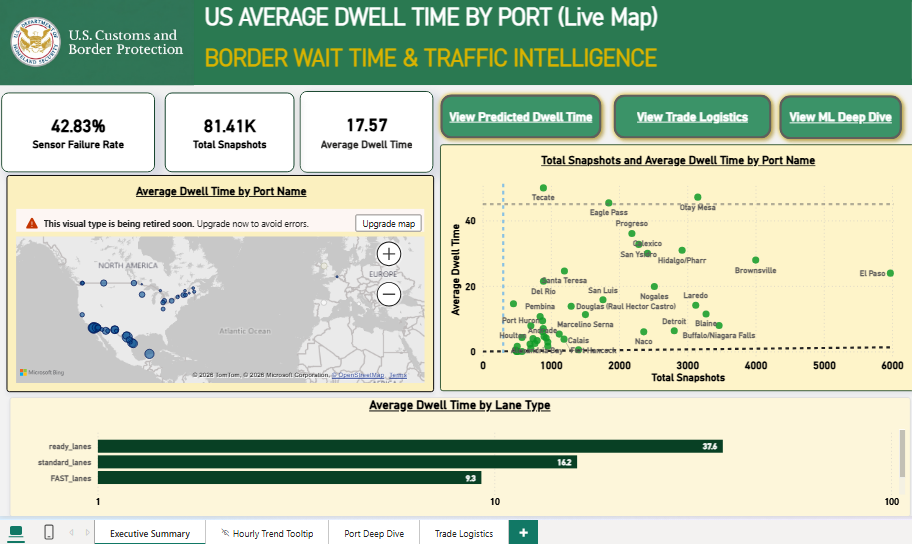

Layout of this report page (visuals, bound fields, positions):
{"tool":"powerbi","page":{"name":"Executive Summary","canvas":[1280,720],"ordinal":0},"visuals":[{"type":"cardVisual","fields":{"Data":["fact_waittimes_gold_new.Sensor Failure Rate"]},"box":[3.1,130.9,213.3,111.3],"z":0},{"type":"cardVisual","fields":{"Data":["fact_waittimes_gold_new.Average Dwell Time"]},"box":[417.4,128.8,185.5,113.4],"z":1000},{"type":"cardVisual","fields":{"Data":["fact_waittimes_gold_new.Total Snapshots"]},"box":[229.8,130.9,180.3,111.3],"z":2000},{"type":"map","title":"Average Dwell Time by Port Name","fields":{"Category":["dim_port.port_name"],"Size":["fact_waittimes_gold_new.Average Dwell Time"]},"box":[10.3,245.3,593.3,301.1],"z":3000},{"type":"clusteredBarChart","title":"Average Dwell Time by Lane Type","fields":{"Category":["dim_lane_new.lane_type"],"Y":["fact_waittimes_gold_new.Average Dwell Time"]},"box":[14.4,553.4,1251.1,166.9],"z":4000},{"type":"scatterChart","title":"Total Snapshots and Average Dwell Time by Port Name","fields":{"Category":["dim_port.port_name"],"X":["fact_waittimes_gold_new.Total Snapshots"],"Y":["fact_waittimes_gold_new.Average Dwell Time"]},"box":[612.1,203,658.5,343.2],"z":5000},{"type":"shape","box":[0,0,1271.1,121.1],"z":6000},{"type":"textbox","box":[279.9,0,1000.1,120.7],"z":7000},{"type":"actionButton","box":[603.3,124.4,241.1,78.9],"z":8000},{"type":"image","box":[0,0,270,121.1],"z":9000},{"type":"actionButton","box":[844,124.7,236.7,78.9],"z":10000},{"type":"actionButton","box":[1073.8,125.7,187.8,78.9],"z":11000}]}

Visuals, with their boxes on the page's 1280x720 design canvas (x1, y1, x2, y2). These are canvas units, not pixel positions in the 912x544 screenshot, which may show the page scaled, cropped or inside an application window:
cardVisual - fact_waittimes_gold_new.Sensor Failure Rate: pyautogui.locateOnScreen(3, 131, 216, 242)
cardVisual - fact_waittimes_gold_new.Average Dwell Time: pyautogui.locateOnScreen(417, 129, 603, 242)
cardVisual - fact_waittimes_gold_new.Total Snapshots: pyautogui.locateOnScreen(230, 131, 410, 242)
"Average Dwell Time by Port Name" map: pyautogui.locateOnScreen(10, 245, 604, 546)
"Average Dwell Time by Lane Type" clusteredBarChart: pyautogui.locateOnScreen(14, 553, 1266, 720)
"Total Snapshots and Average Dwell Time by Port Name" scatterChart: pyautogui.locateOnScreen(612, 203, 1271, 546)
shape: pyautogui.locateOnScreen(0, 0, 1271, 121)
textbox: pyautogui.locateOnScreen(280, 0, 1280, 121)
actionButton: pyautogui.locateOnScreen(603, 124, 844, 203)
image: pyautogui.locateOnScreen(0, 0, 270, 121)
actionButton: pyautogui.locateOnScreen(844, 125, 1081, 204)
actionButton: pyautogui.locateOnScreen(1074, 126, 1262, 205)
